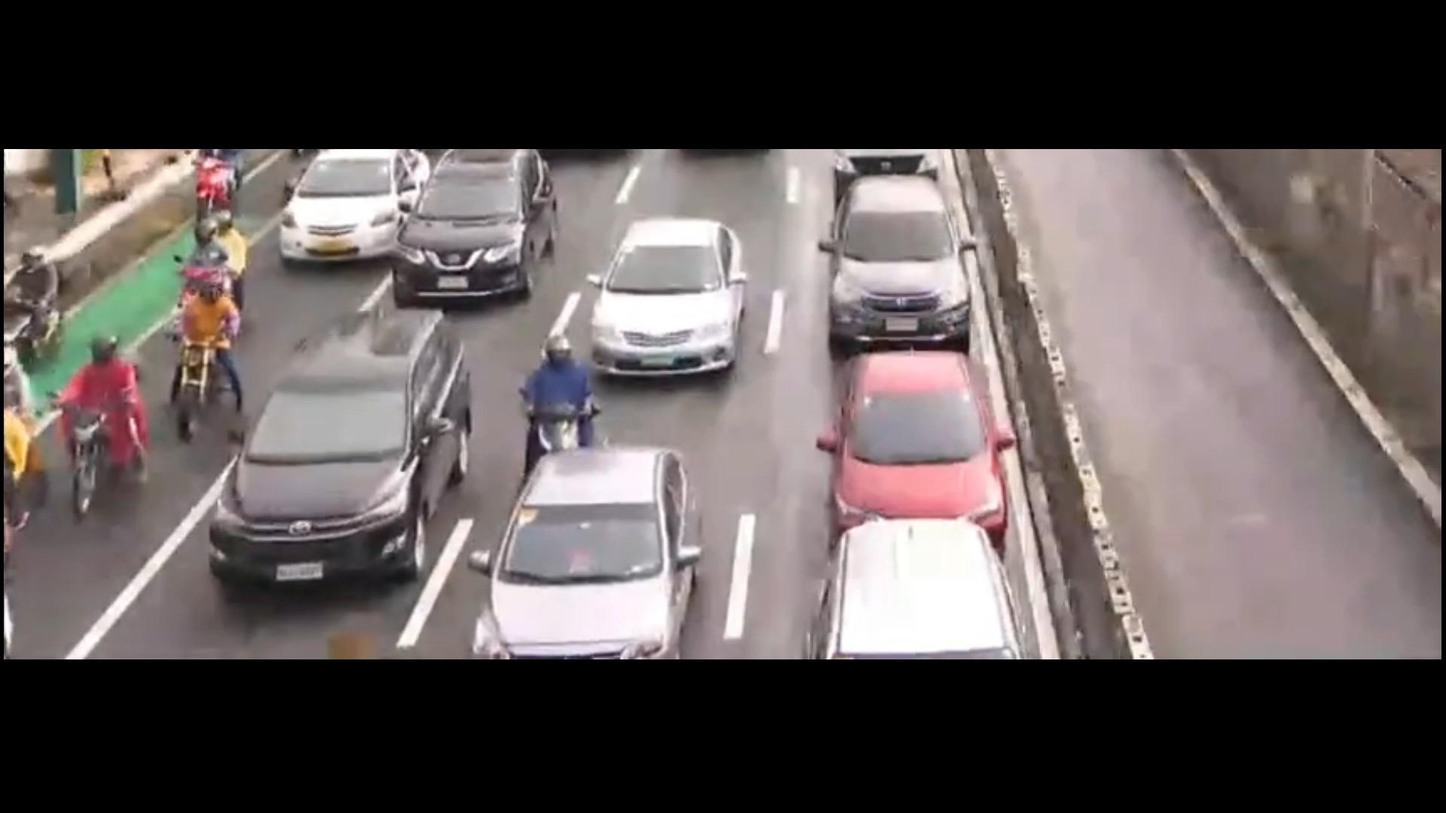Motorcycle: (60, 312, 154, 516), (168, 267, 245, 429), (520, 333, 597, 465), (0, 237, 66, 378), (181, 199, 250, 311)
SUV: (218, 312, 461, 591), (808, 519, 1028, 657), (827, 184, 975, 350), (397, 147, 548, 303)
Sedan: (461, 448, 700, 659), (821, 344, 1015, 540), (589, 216, 734, 378), (265, 152, 431, 262)
